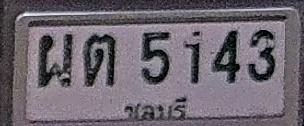1: (183, 31, 201, 84)
3: (248, 29, 276, 81)
4: (212, 29, 240, 82)
5: (141, 31, 170, 84)
A21: (84, 33, 116, 86)
A28: (38, 33, 74, 87)
CBI: (120, 94, 196, 123)
